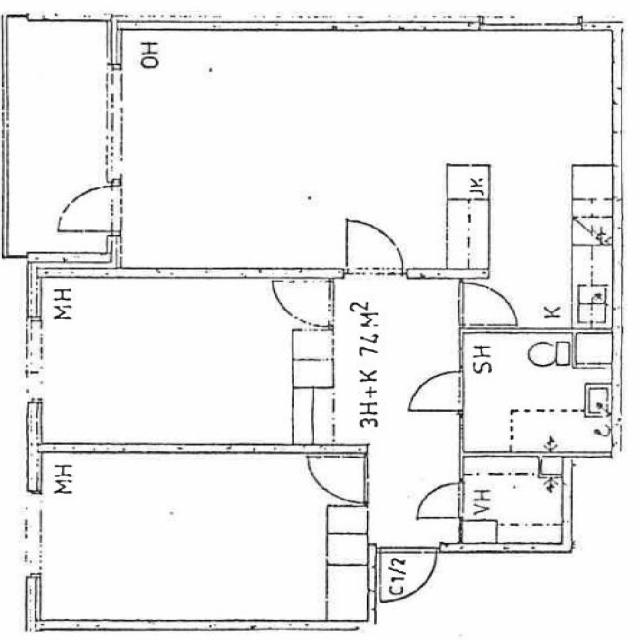door: (380, 544, 436, 600), (54, 187, 121, 231), (276, 281, 333, 326), (310, 458, 367, 502), (460, 284, 512, 325), (413, 371, 464, 411), (419, 483, 464, 517)
